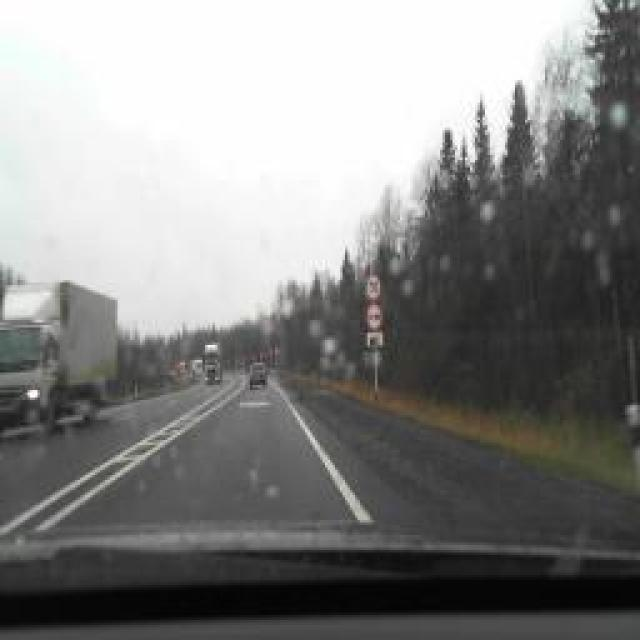sign: (364, 302, 384, 332), (365, 271, 383, 301)
